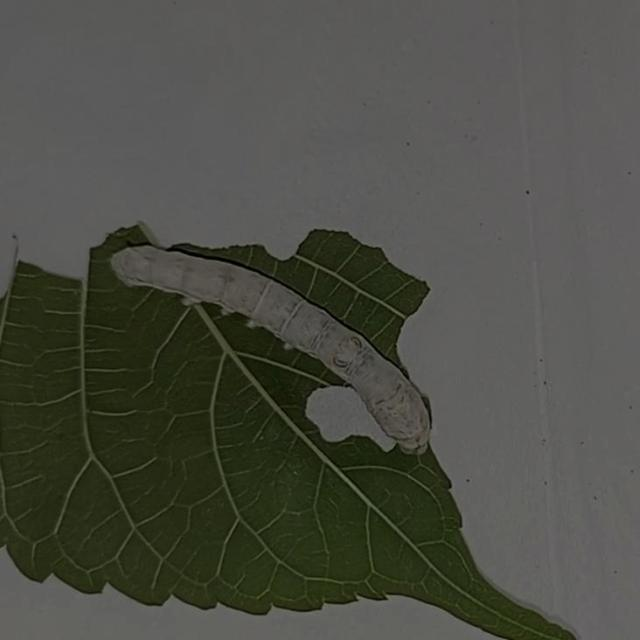Healthy: (72, 202, 466, 492)
